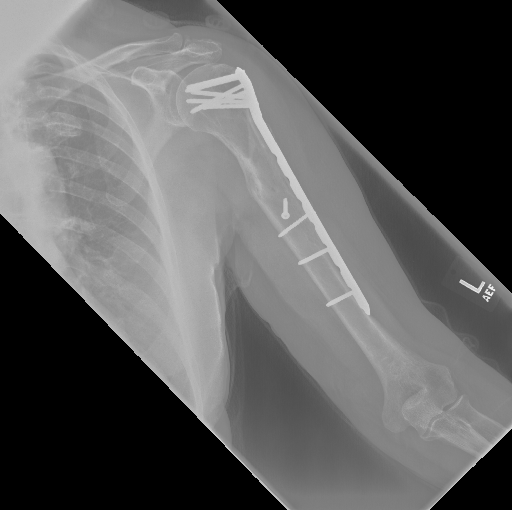implant: (280, 196, 373, 321), (182, 68, 262, 116)
